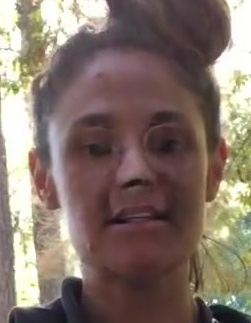n_f: (107, 125, 160, 190)
